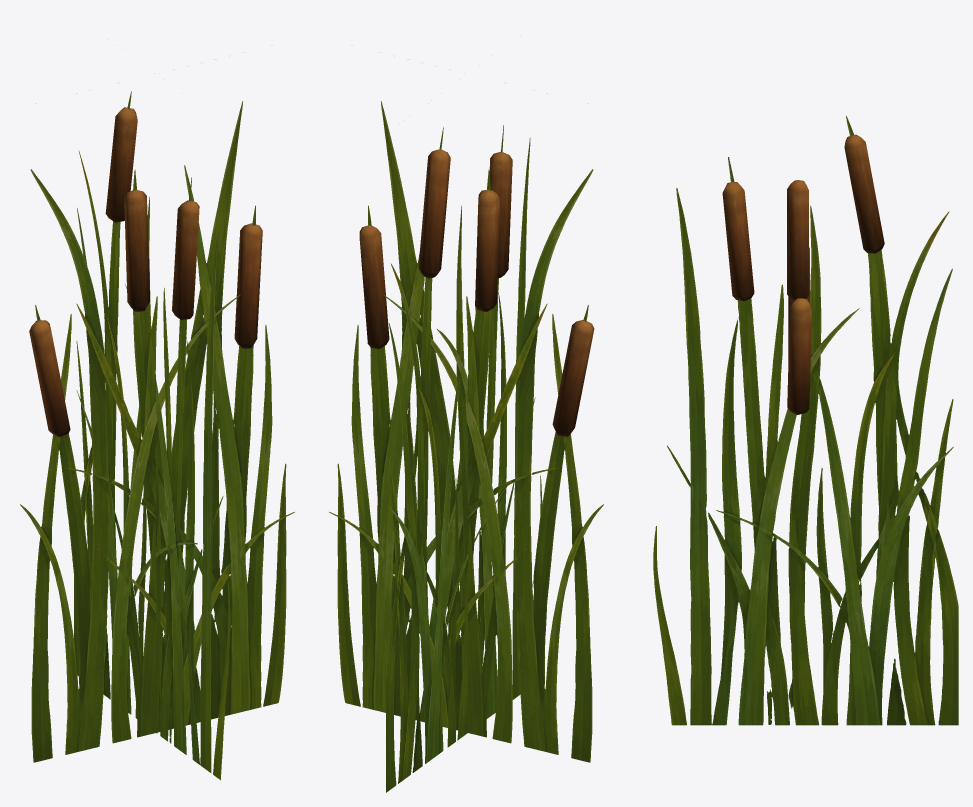
The model's file is Cattail01.fbx.
The picture shows the model from 3 angles, left to right: view 1: azimuth 30°, elevation 25°; view 2: azimuth 150°, elevation 25°; view 3: azimuth 270°, elevation 25°; orthographic projection. The views are drawn at different scales.
Visible parts, largest first — view 1: Cattail01_LOD0; view 2: Cattail01_LOD0; view 3: Cattail01_LOD0.
Boxes of the visible parts, x1,y1,x2,y2 form: Cattail01_LOD0: [20, 91, 294, 780]; Cattail01_LOD0: [329, 101, 603, 792]; Cattail01_LOD0: [653, 116, 958, 725].
Size of what is drawn, in the model's own units: 0.4524 by 1 by 0.4524.
